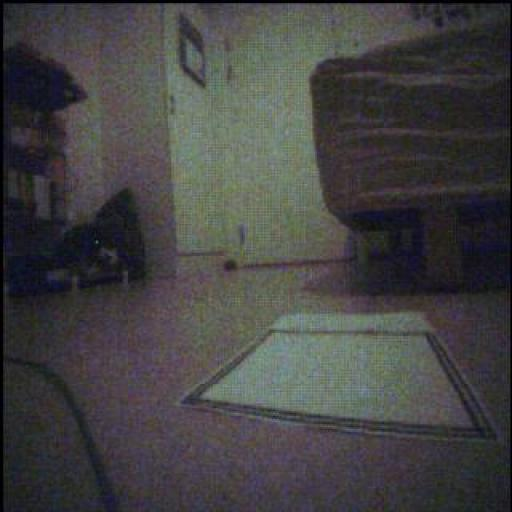pad: (182, 313, 497, 439)
